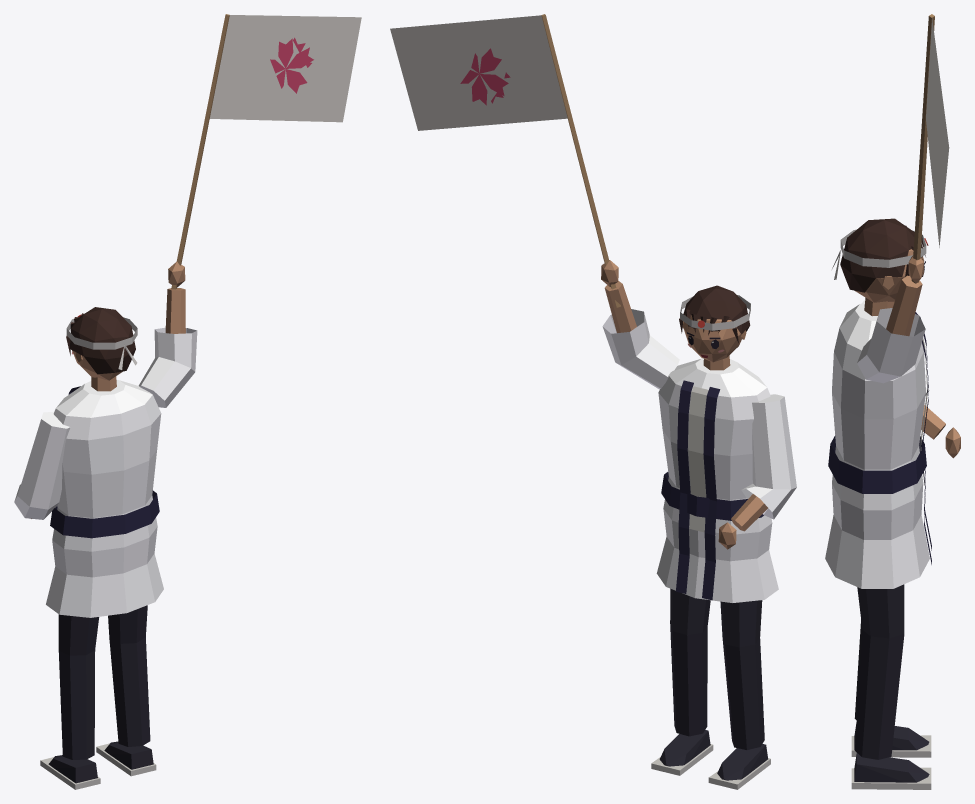
Rendered from spectator_c.glb.
3 views of the same model, side by side, from view 1: azimuth 30°, elevation 25°; view 2: azimuth 150°, elevation 25°; view 3: azimuth 270°, elevation 25° (orthographic). The views are drawn at different scales.
Visible parts, largest first — view 1: spectator_c; view 2: spectator_c; view 3: spectator_c.
Part boxes in pixels (box(x1,y1,x2,y2)): spectator_c: box(14, 14, 361, 789); spectator_c: box(390, 14, 796, 789); spectator_c: box(825, 14, 960, 789).
Size of the model in its own units: 1.45 by 2.66 by 0.392.
